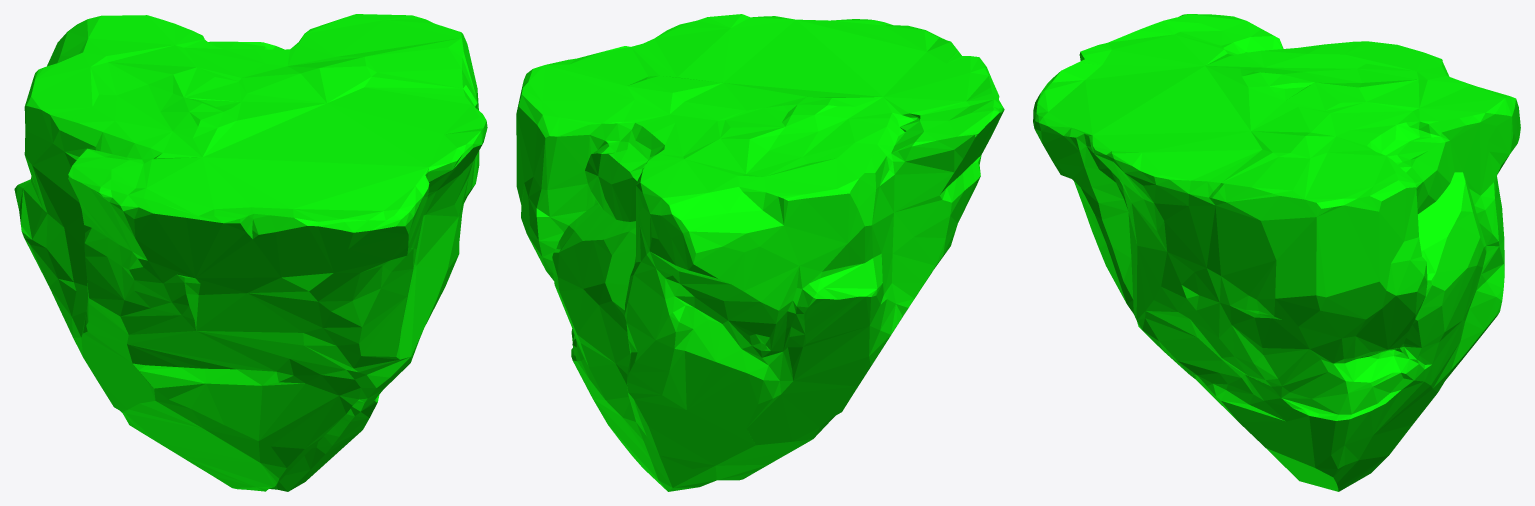
File: SM_Iceberg_Medium_C_Rock.fbx
3 renders of one model, left to right at view 1: azimuth 30°, elevation 25°; view 2: azimuth 150°, elevation 25°; view 3: azimuth 270°, elevation 25°, orthographic. The views are drawn at different scales.
Visible parts, largest first — view 1: SM_Iceberg_Medium_C_Rock; view 2: SM_Iceberg_Medium_C_Rock; view 3: SM_Iceberg_Medium_C_Rock.
Boxes of the visible parts, x1,y1,x2,y2 form: SM_Iceberg_Medium_C_Rock: (14, 14, 487, 491); SM_Iceberg_Medium_C_Rock: (516, 14, 1004, 491); SM_Iceberg_Medium_C_Rock: (1033, 14, 1520, 491).
Bounding box in the file's own units: 12.83 × 11.21 × 13.95.
